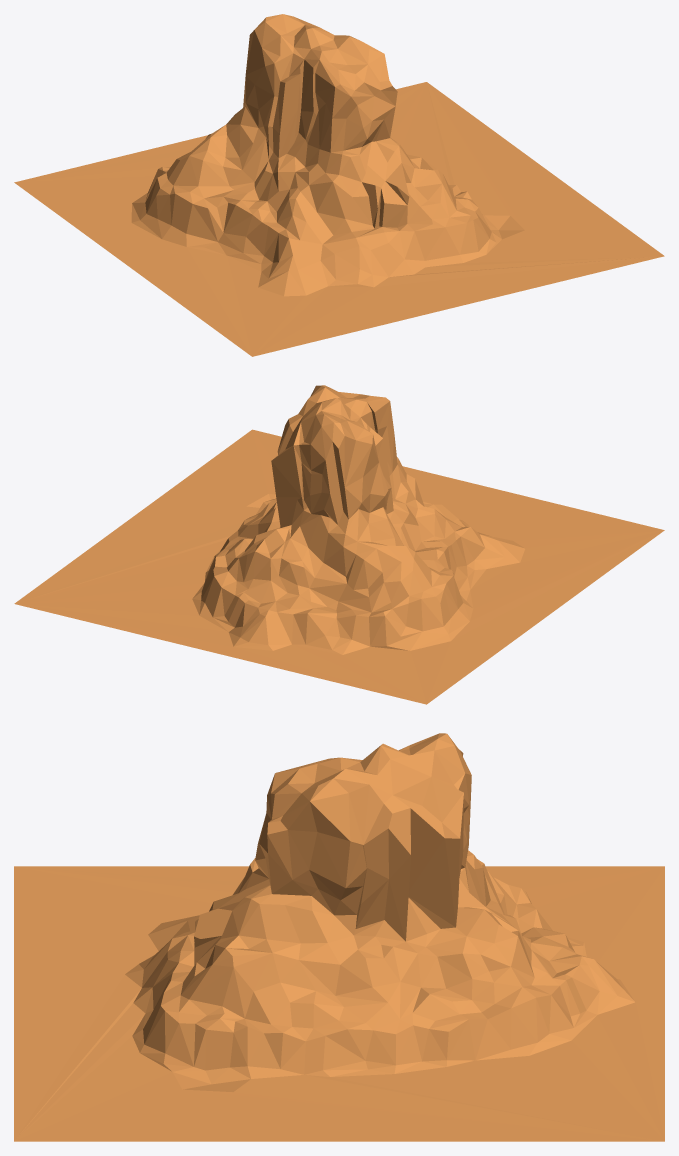
Rendered from mountain2.fbx.
The picture shows the model from 3 angles, top to bottom: view 1: azimuth 30°, elevation 25°; view 2: azimuth 150°, elevation 25°; view 3: azimuth 270°, elevation 25°; orthographic projection. The views are drawn at different scales.
Parts seen in each view (by area): view 1: Icosphere; view 2: Icosphere; view 3: Icosphere.
Boxes of the visible parts, x1,y1,x2,y2 form: Icosphere: [14, 14, 664, 356]; Icosphere: [14, 385, 664, 704]; Icosphere: [14, 733, 664, 1141].
Size of the model in its own units: 10126 by 4408 by 10126.
